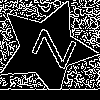Z: (21, 23, 77, 70)
